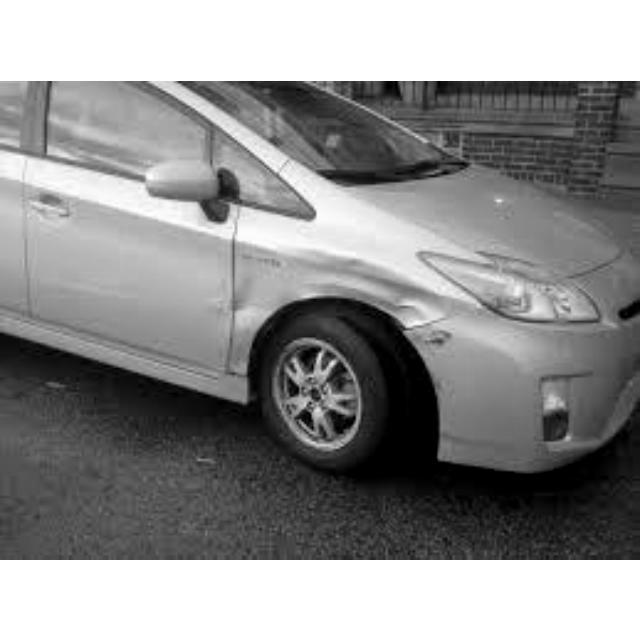fender-dent: (236, 239, 443, 337)
